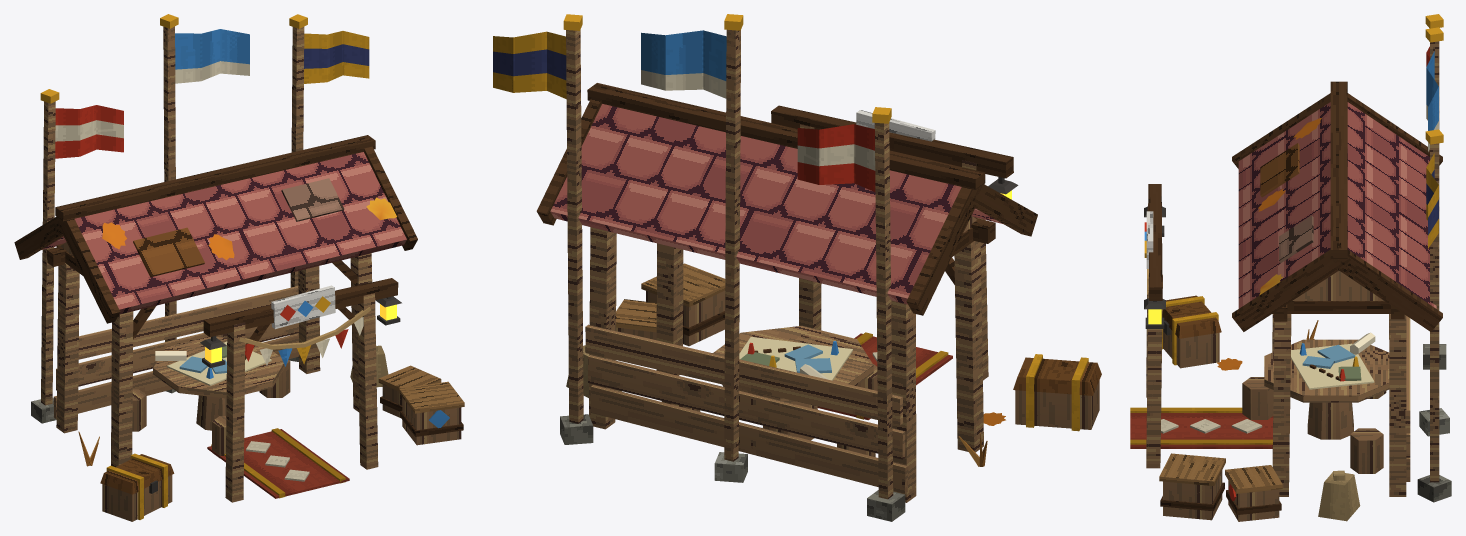
File: embassy.glb
3 views of the same model, side by side, from view 1: azimuth 30°, elevation 25°; view 2: azimuth 150°, elevation 25°; view 3: azimuth 270°, elevation 25° (orthographic). The views are drawn at different scales.
Visible parts, largest first — view 1: embassy, sway_flag_2, sway_flag_1, sway_flag_3; view 2: embassy, sway_flag_2, sway_flag_1, sway_flag_3; view 3: embassy, sway_flag_3, sway_flag_2.
Boxes of the visible parts, <box> form: embassy: <box>14,14,464,521</box>; sway_flag_2: <box>175,29,249,83</box>; sway_flag_1: <box>55,105,123,158</box>; sway_flag_3: <box>304,31,369,83</box>; embassy: <box>536,14,1101,521</box>; sway_flag_2: <box>641,30,726,98</box>; sway_flag_1: <box>797,124,875,191</box>; sway_flag_3: <box>493,31,566,99</box>; embassy: <box>1130,14,1451,521</box>; sway_flag_3: <box>1426,153,1438,248</box>; sway_flag_2: <box>1426,51,1438,151</box>.
Bounding box in the file's own units: 5.58 × 5.26 × 3.84.
Materials: 35 (20 with a texture image).
